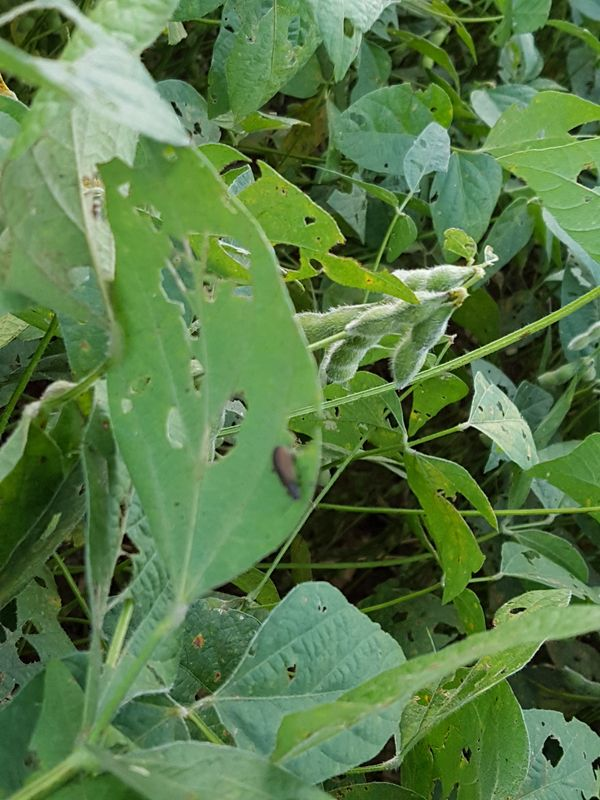Lagria_villosa: (256, 442, 311, 505)
